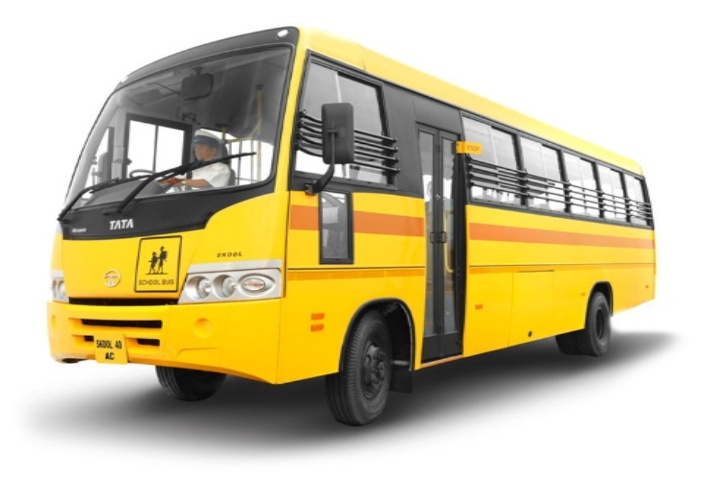bus: (51, 29, 665, 416)
